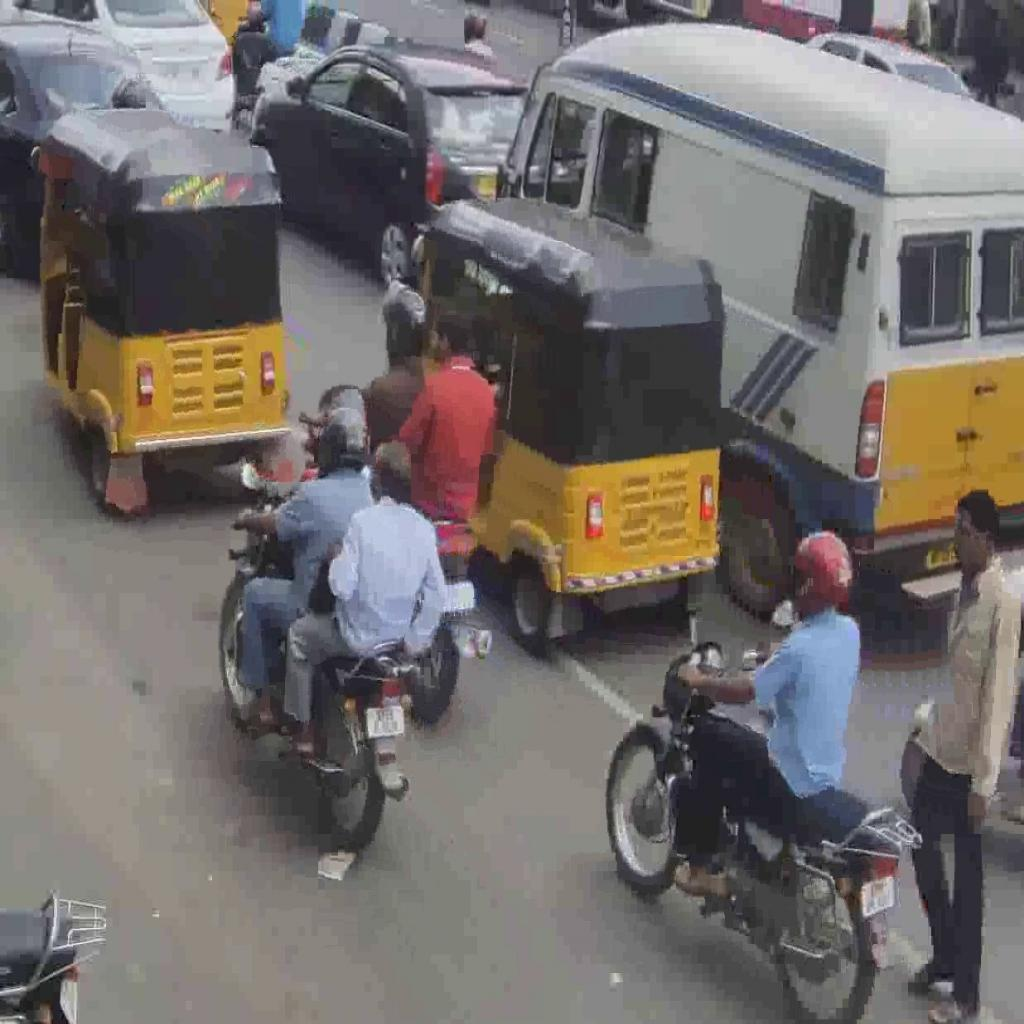bike: (604, 636, 923, 1024), (217, 478, 421, 856)
helmet: (790, 527, 855, 622), (314, 406, 372, 472), (368, 439, 414, 506)
lisc: (861, 876, 895, 918), (366, 706, 405, 738)
rider: (671, 527, 862, 903), (280, 438, 446, 763), (229, 405, 373, 734)
